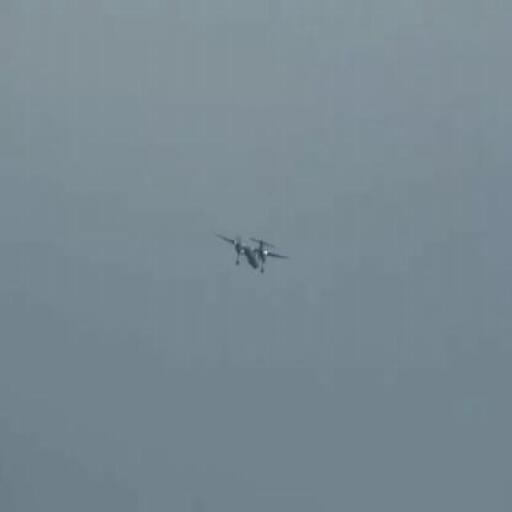aircraft: (215, 232, 292, 274)
